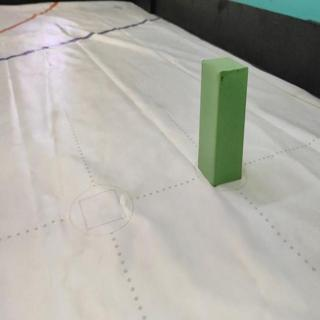greenbox: (197, 55, 249, 189)
